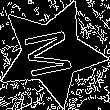M_E: (22, 25, 81, 81)
